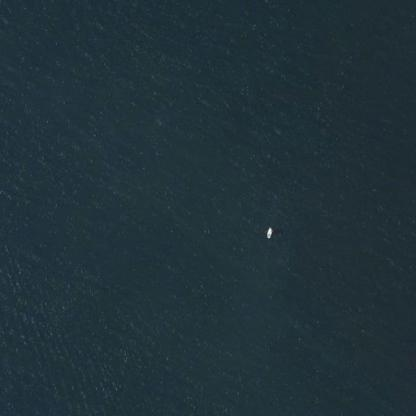ship: (246, 225, 254, 240)
